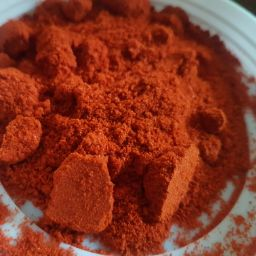Red chilli: (3, 8, 229, 256), (10, 27, 224, 202), (32, 33, 202, 225)
